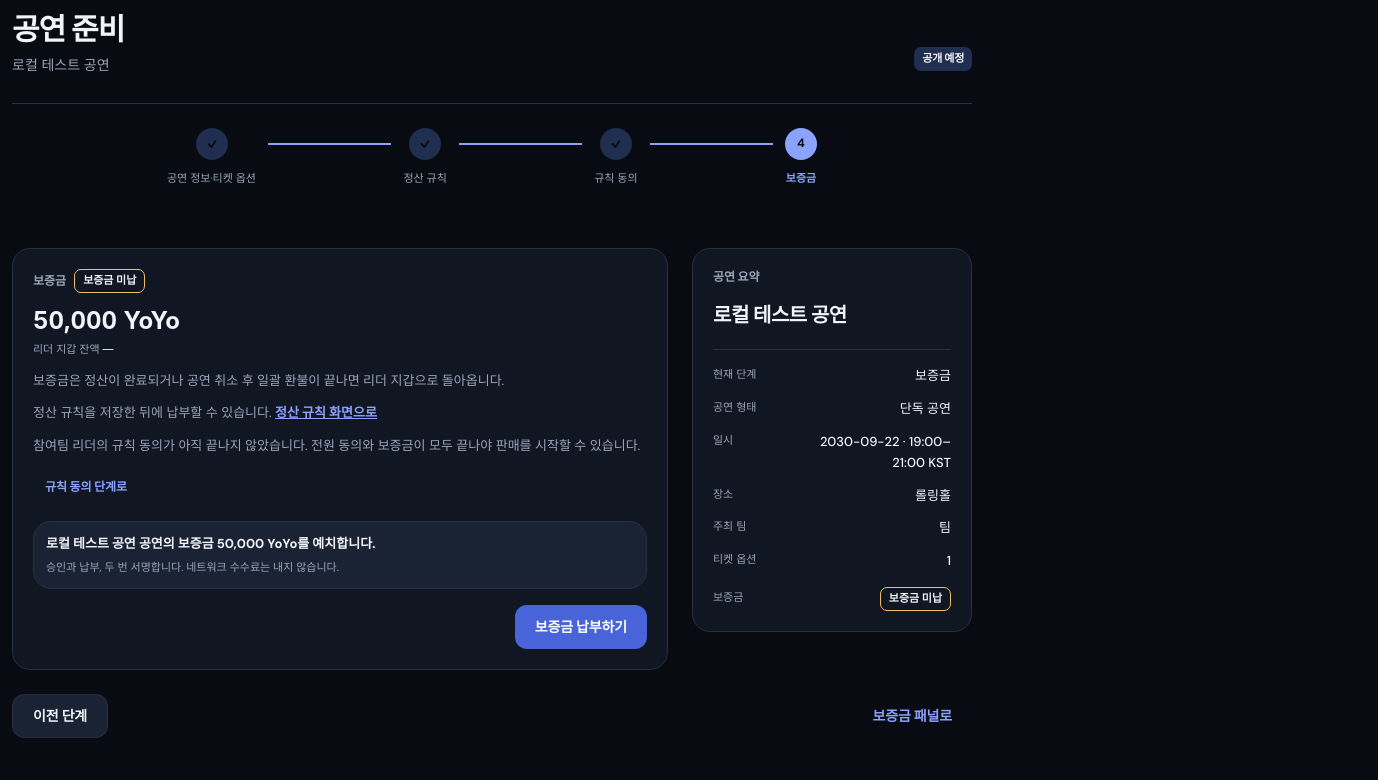
Scenario: 보증금 확정 실패 경로 › prepare 409 는 code 로 갈린다 › 잔액을 몰라도 서버가 부족하다고 하면 안내는 띄우되 금액은 말하지 않는다
Click the button "보증금 납부하기". click: (581, 627)
box: top-left (515, 605), bottom-right (647, 649)
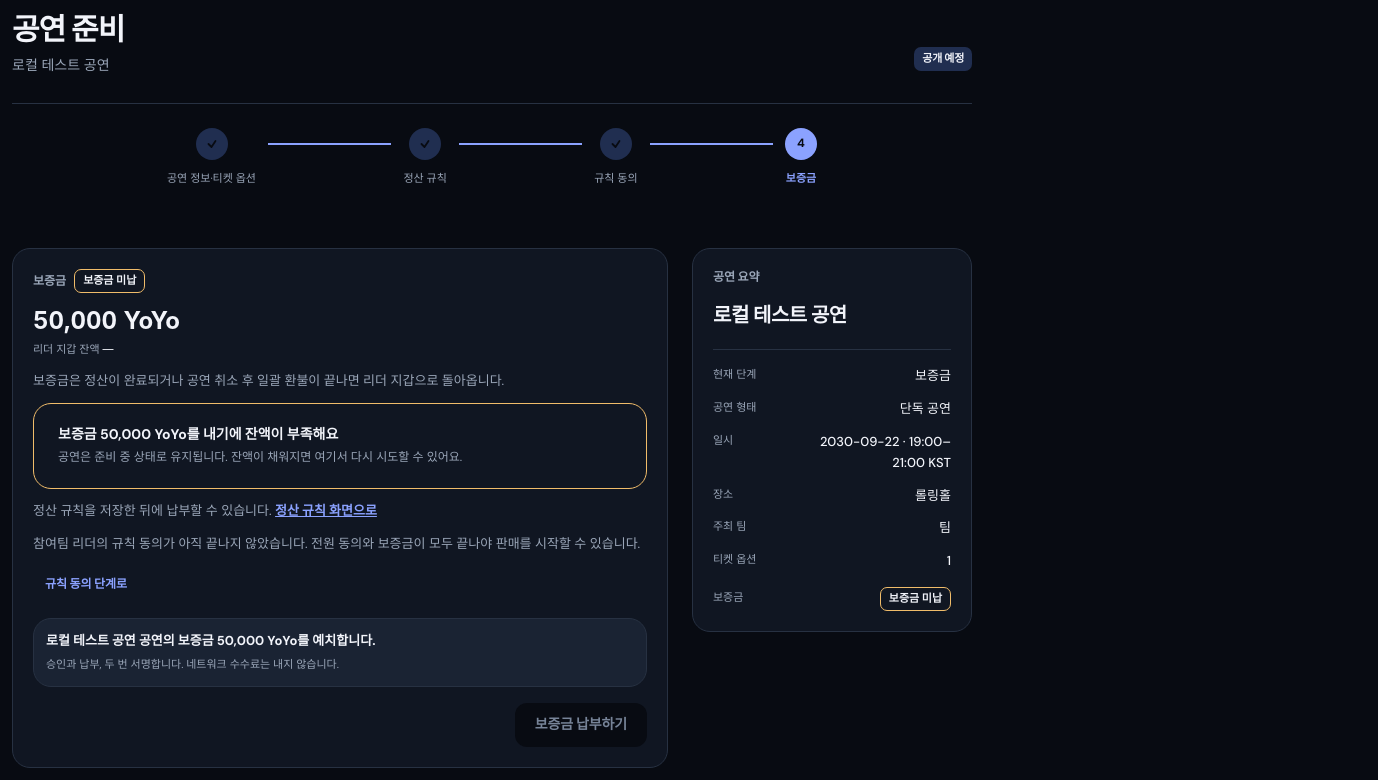
Check: the text "보증금 50,000 YoYo를 내기에 잔액이 부족해요" is shown, box top-left (58, 425), bottom-right (338, 443)
